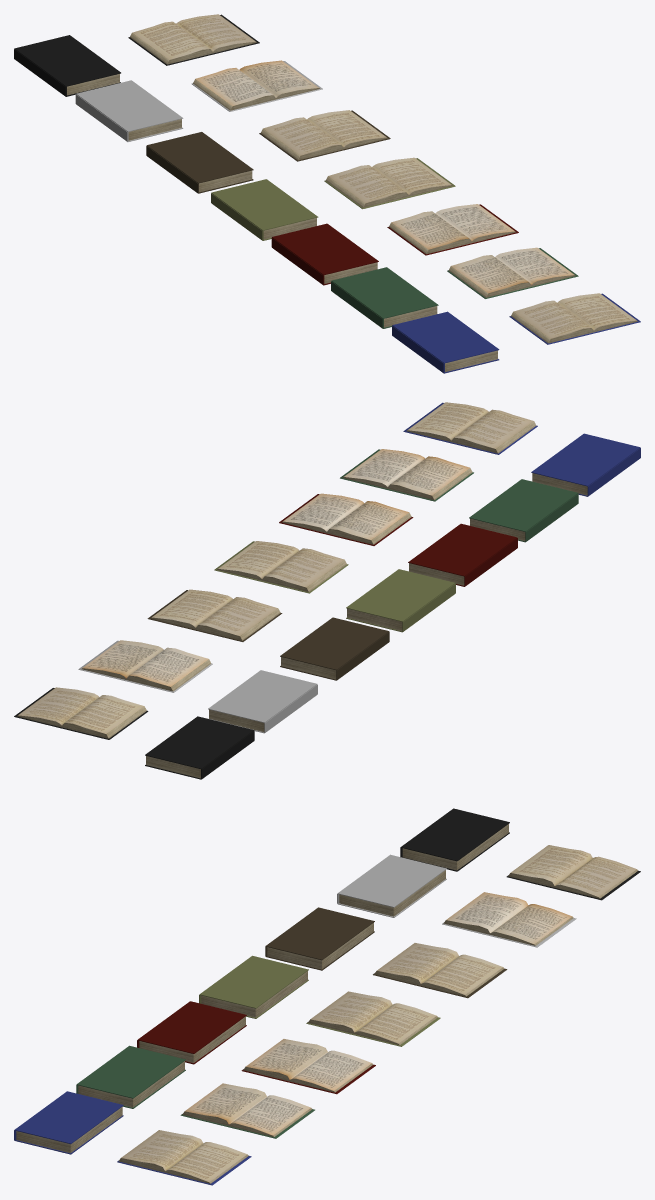
The model's file is AllBooks.fbx.
The picture shows the model from 3 angles, top to bottom: view 1: azimuth 30°, elevation 25°; view 2: azimuth 150°, elevation 25°; view 3: azimuth 330°, elevation 25°; orthographic projection. The views are drawn at different scales.
Parts seen in each view (by area): view 1: pCube13, pCube12, pCube1, pCube2, pCube3, pCube4, pCube8, pCube5, pCube6, pCube7, pCube14, pCube9 (+2 smaller); view 2: pCube11, pCube12, pCube14, pCube7, pCube3, pCube2, pCube5, pCube6, pCube8, pCube4, pCube13, pCube1 (+2 smaller); view 3: pCube4, pCube5, pCube6, pCube7, pCube3, pCube2, pCube8, pCube1, pCube12, pCube13, pCube14, pCube9 (+2 smaller).
Part boxes in pixels (x1,y1,x2,y2): pCube13: (75, 80, 183, 141); pCube12: (146, 132, 253, 193); pCube1: (392, 311, 499, 373); pCube2: (509, 293, 640, 344); pCube3: (447, 247, 578, 298); pCube4: (387, 204, 518, 255); pCube8: (128, 14, 259, 65); pCube5: (324, 157, 455, 209); pCube6: (259, 110, 390, 161); pCube7: (191, 60, 322, 111); pCube14: (14, 35, 120, 96); pCube9: (331, 267, 438, 328); pCube11: (346, 569, 455, 632); pCube12: (280, 617, 389, 680); pCube14: (145, 716, 254, 779); pCube7: (78, 640, 212, 692); pCube3: (340, 449, 473, 501); pCube2: (403, 402, 537, 454); pCube5: (214, 541, 348, 593); pCube6: (147, 589, 282, 641); pCube8: (14, 687, 148, 739); pCube4: (279, 493, 413, 545); pCube13: (208, 670, 317, 733); pCube1: (531, 433, 640, 496); pCube4: (241, 1039, 375, 1094); pCube5: (306, 991, 440, 1046); pCube6: (373, 943, 507, 998); pCube7: (442, 892, 576, 947); pCube3: (180, 1083, 314, 1138); pCube2: (117, 1130, 251, 1185); pCube8: (506, 845, 640, 900); pCube1: (14, 1091, 123, 1154); pCube12: (265, 907, 374, 970); pCube13: (337, 854, 446, 917); pCube14: (400, 808, 509, 871); pCube9: (76, 1045, 185, 1108).
Size of the model in its own units: 37.77 by 2.24 by 144.
1 material, 1 textured.
